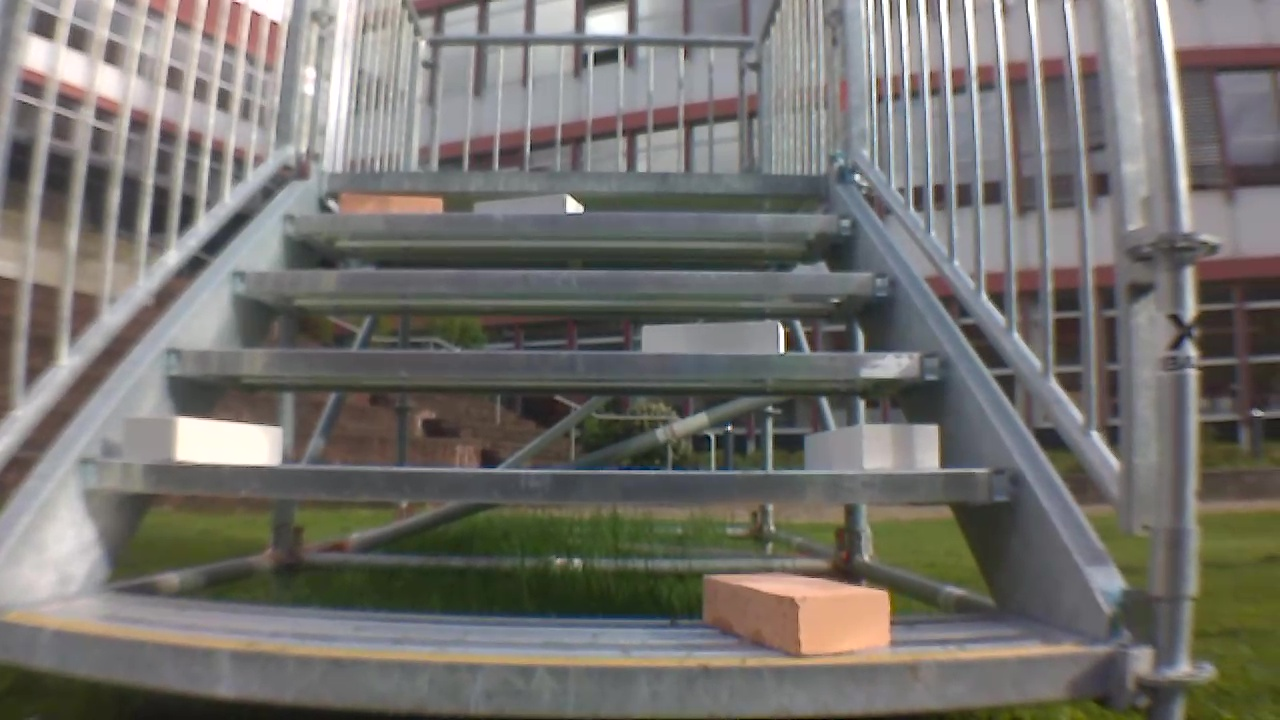brick: (703, 574, 890, 656), (124, 417, 282, 463), (803, 423, 937, 470), (643, 321, 784, 354), (474, 193, 582, 215), (342, 194, 442, 213)
edge: (3, 620, 1112, 715), (83, 459, 1008, 502), (167, 348, 949, 379), (231, 271, 898, 295), (286, 214, 856, 233), (323, 172, 831, 193)
stairs: (2, 3, 1214, 716)
steps: (4, 166, 1123, 717)
